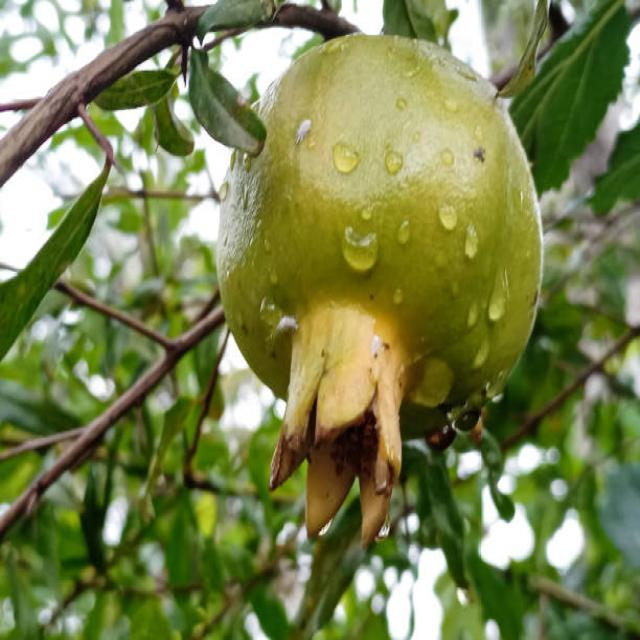Unripe: (215, 28, 546, 549)
